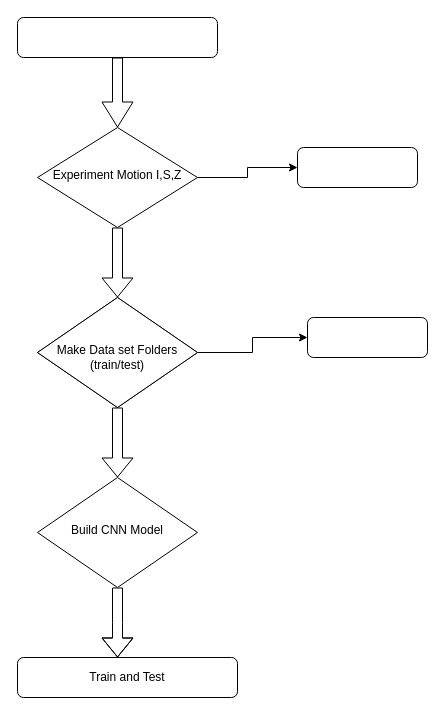
The diagram is 445 pixels wide and 715 high, and some of its shapes have lost their labels. The centre of each missing label's shape, as x and y in pixels:
"Create motion files" belongs at [357,167].
"Develop Android App" belongs at [117,37].
"Organize Data" belongs at [367,337].
